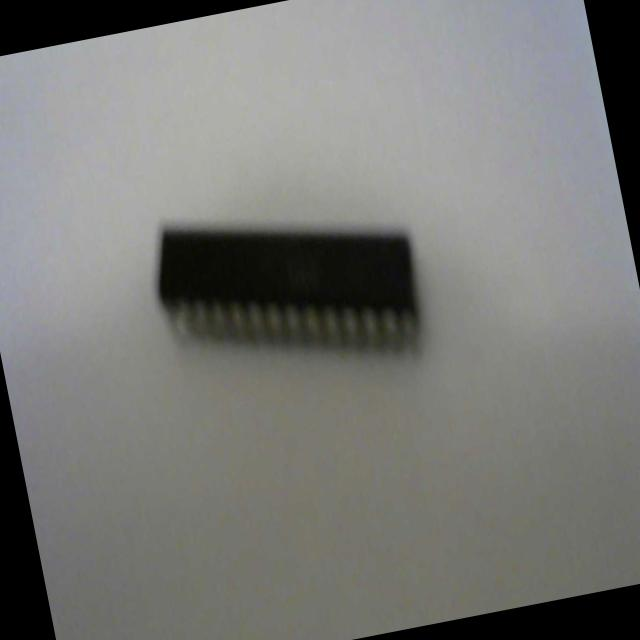atmega: (142, 172, 436, 405)
